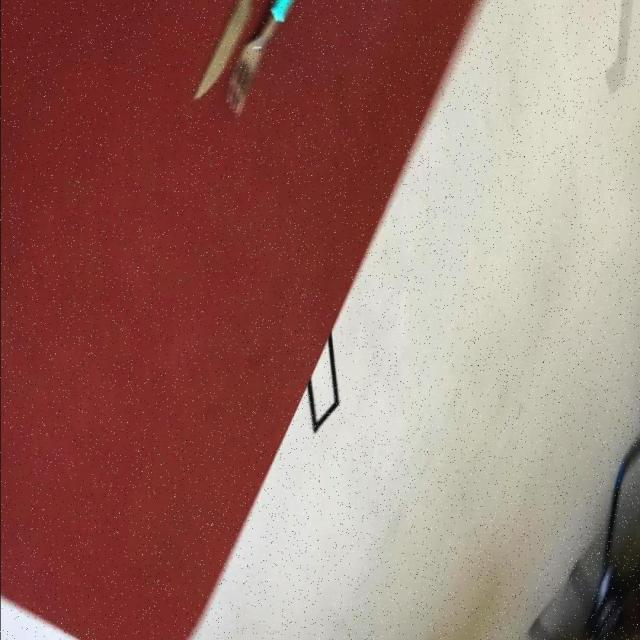Fork: (581, 425, 640, 640), (225, 0, 296, 116)
Knife: (224, 0, 296, 117)
